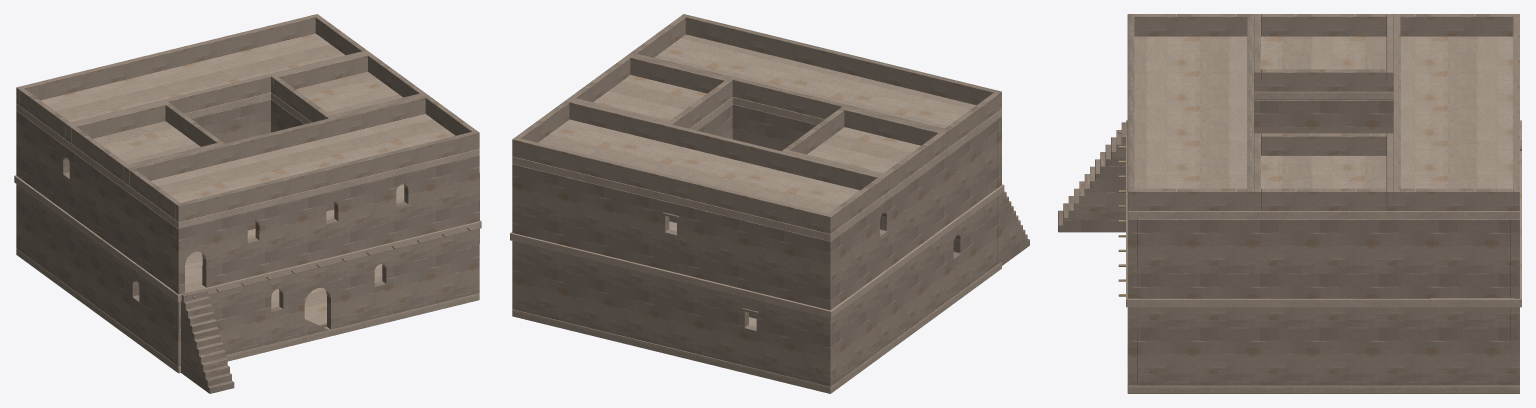
Rendered from riad_26.glb.
3 views of the same model, side by side, from view 1: azimuth 30°, elevation 25°; view 2: azimuth 150°, elevation 25°; view 3: azimuth 270°, elevation 25° (orthographic). The views are drawn at different scales.
Parts seen in each view (by area): view 1: riad; view 2: riad; view 3: riad.
Boxes of the visible parts, x1,y1,x2,y2 form: riad: [14, 14, 481, 393]; riad: [510, 14, 1029, 393]; riad: [1058, 14, 1521, 393].
Size of the model in its own units: 18.48 by 9.74 by 20.21.
3 materials, 3 textured.
